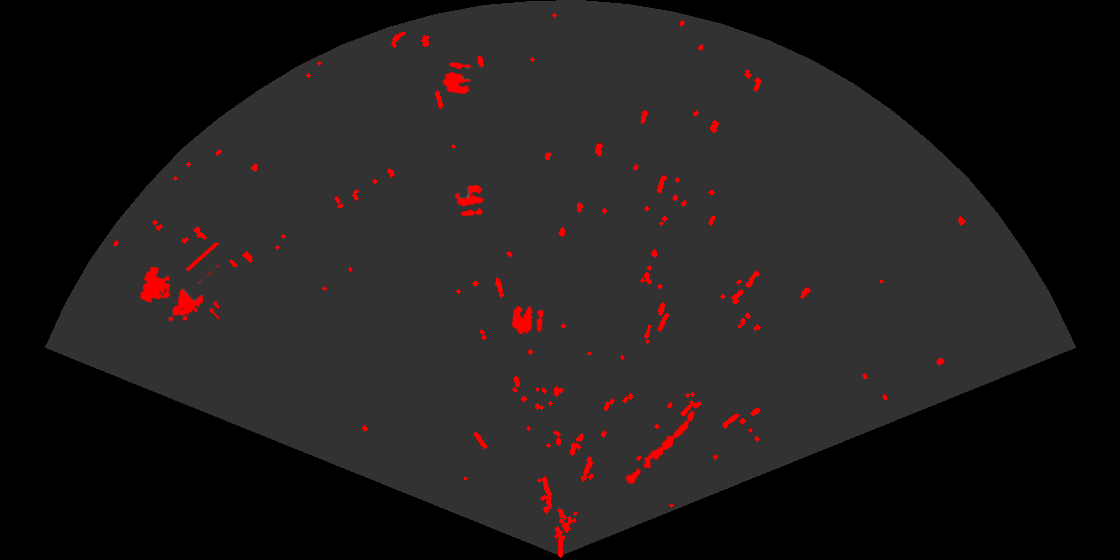ball: (453, 183, 486, 218), (441, 61, 473, 96), (510, 304, 545, 336)
cage: (138, 243, 219, 323)
chain: (624, 409, 696, 485)
